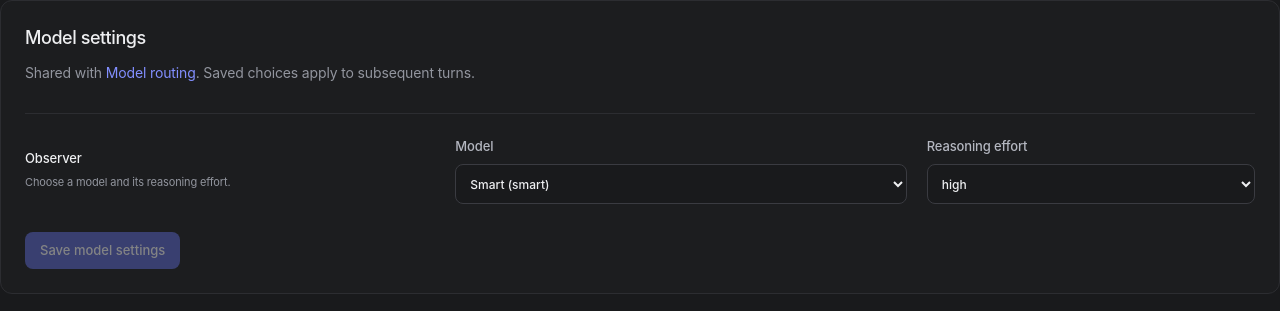
agent configuration controls › edits the existing model route for observer
The image size is (1280, 311).
Select "Fast (fast)" in the dropdown named "Observer model": [681, 184] box [455,164,907,204]
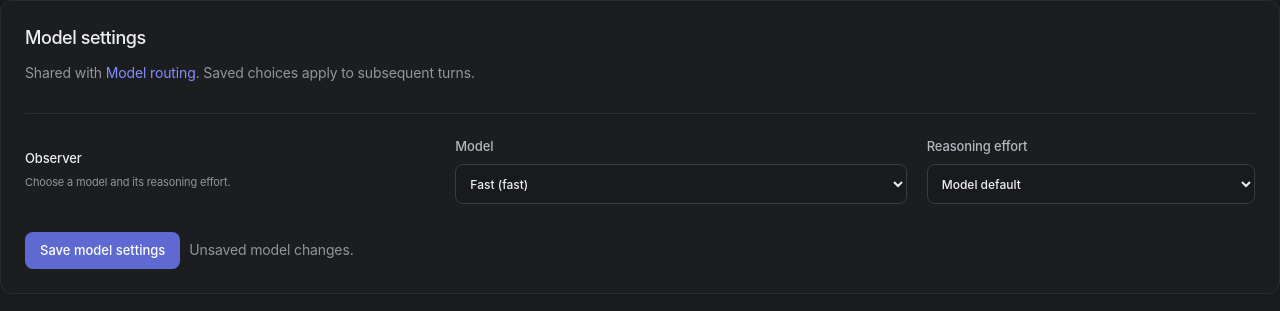
Select "medium" in the dropdown labelled "Reasoning effort": [1091, 184] box [927,164,1255,204]
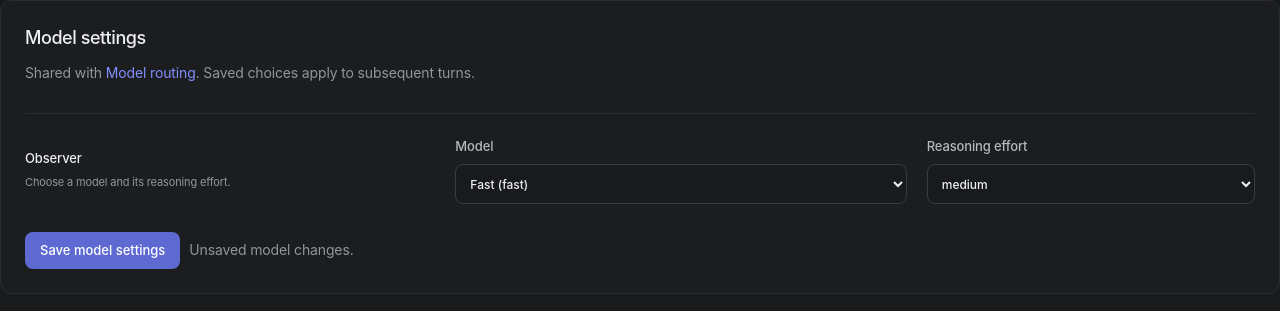
Click the button "Save model settings": [103, 250] box [25,232,180,269]
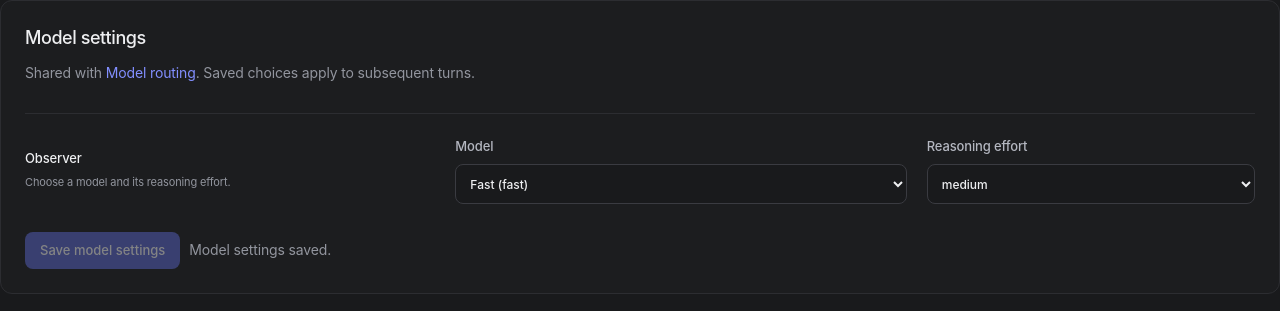
expect the text "Model settings saved." is shown: met, box [189,239,331,262]
